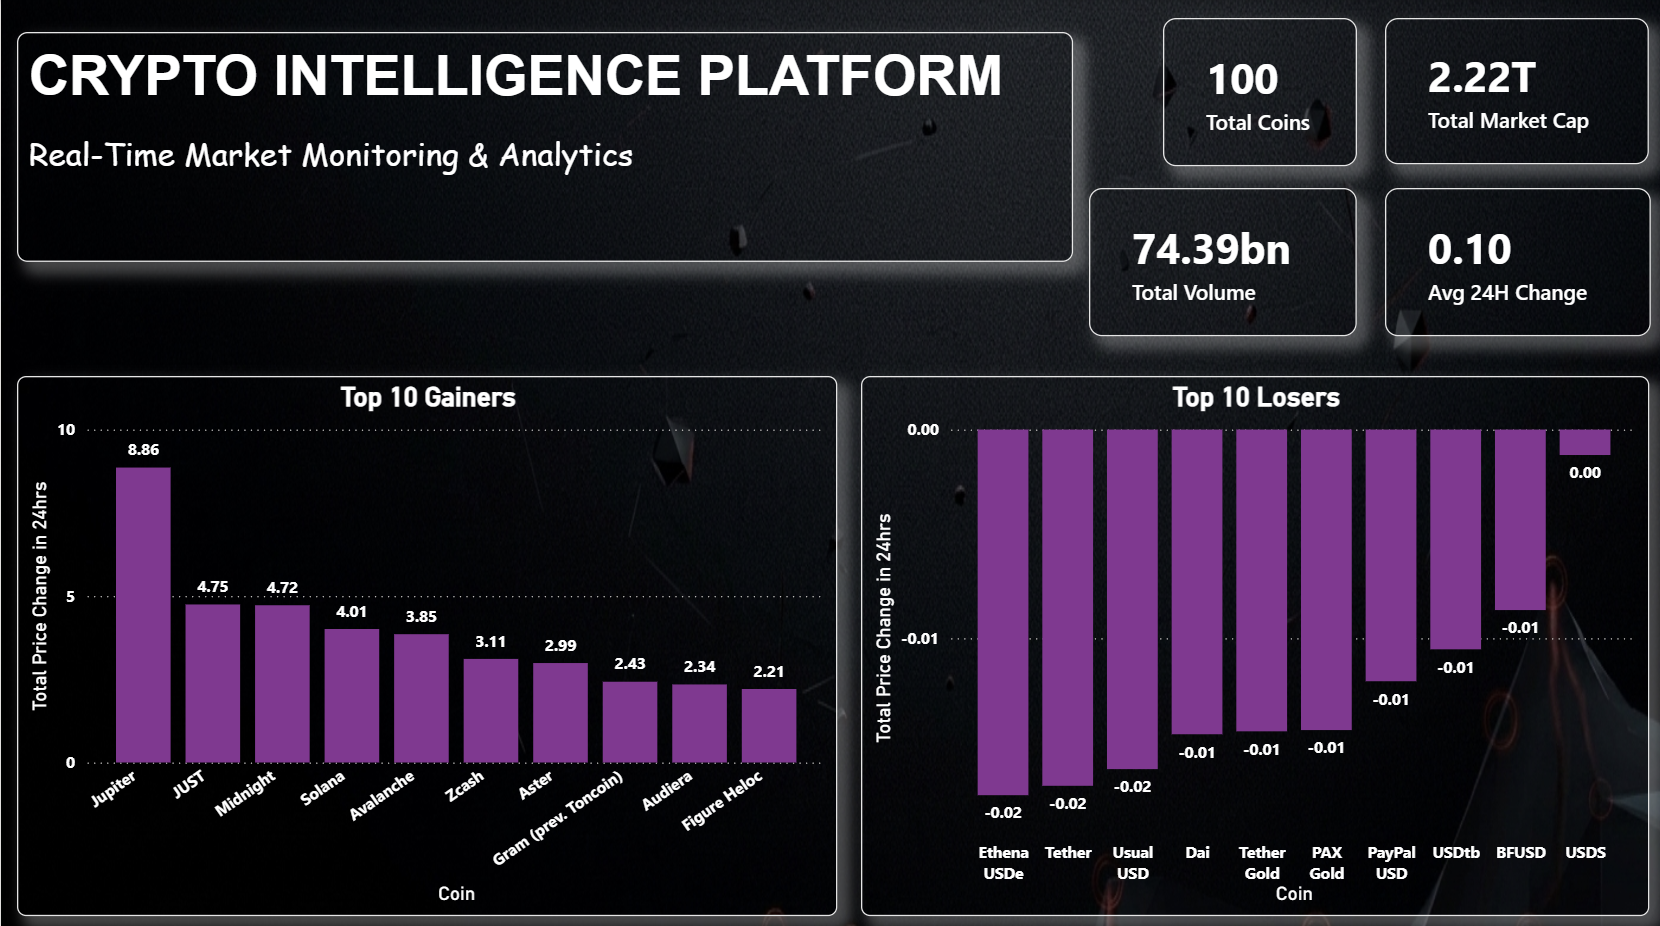

This screenshot's page, from the dashboard's own definition file:
{"tool":"powerbi","page":{"name":"Page 1","canvas":[1280,720],"ordinal":0},"visuals":[{"type":"cardVisual","fields":{"Data":["crypto_market.Total Market Cap"]},"box":[1059.5,15.3,202.1,111.8],"z":0},{"type":"cardVisual","fields":{"Data":["crypto_market.Total Coins"]},"box":[889.6,15.3,148.5,113.3],"z":1000},{"type":"cardVisual","fields":{"Data":["crypto_market.Total Volume"]},"box":[832.9,145.5,205.2,113.3],"z":2000},{"type":"cardVisual","fields":{"Data":["crypto_market.Avg 24H Change"]},"box":[1059.5,145.5,203.6,113.3],"z":3000},{"type":"clusteredColumnChart","title":"Top 10 Gainers","fields":{"Category":["crypto_market.name"],"Y":["Sum(crypto_market.price_change_percentage_24h)"]},"box":[12.2,289.4,627.8,413.4],"z":4000},{"type":"clusteredColumnChart","title":"Top 10 Losers","fields":{"Category":["crypto_market.name"],"Y":["Sum(crypto_market.price_change_percentage_24h)"]},"box":[658.4,289.4,603.3,413.4],"z":5000},{"type":"textbox","box":[12.2,26,808.4,176.1],"z":6000}]}

Visuals, with their boxes in screenshot pixels (x1, y1, x2, y2), scaled from the page's 1280x720 canvas onto the 1660x926 screenshot:
cardVisual - crypto_market.Total Market Cap: bbox=(1374, 20, 1636, 163)
cardVisual - crypto_market.Total Coins: bbox=(1154, 20, 1346, 165)
cardVisual - crypto_market.Total Volume: bbox=(1080, 187, 1346, 333)
cardVisual - crypto_market.Avg 24H Change: bbox=(1374, 187, 1638, 333)
"Top 10 Gainers" clusteredColumnChart: bbox=(16, 372, 830, 904)
"Top 10 Losers" clusteredColumnChart: bbox=(854, 372, 1636, 904)
textbox: bbox=(16, 33, 1064, 260)
